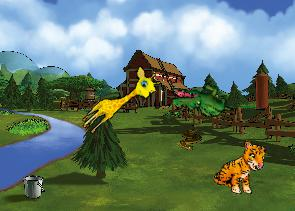crocodile: (169, 78, 234, 123)
giraffe: (77, 61, 164, 144)
tiger: (211, 135, 269, 199)
